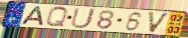6: (125, 11, 143, 32)
8: (96, 9, 116, 30)
A: (19, 6, 46, 27)
Q: (45, 6, 70, 28)
U: (69, 7, 98, 30)
V: (147, 11, 171, 34)
